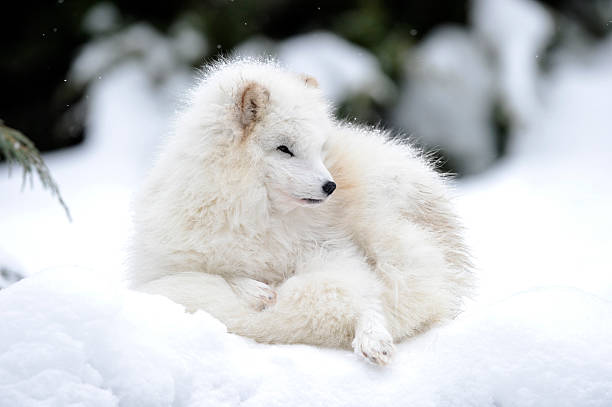arcticfox: (244, 105, 348, 225)
